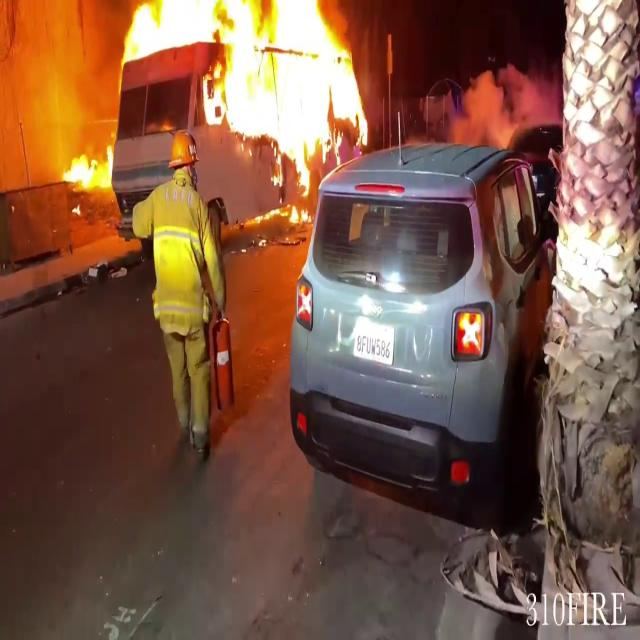Fire: (200, 0, 373, 201), (120, 0, 234, 65), (58, 134, 118, 196)
